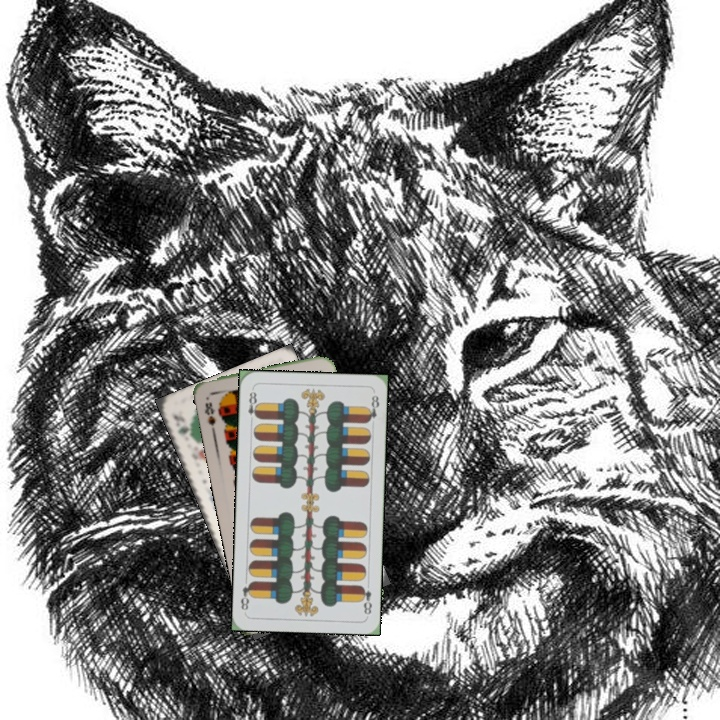E8: (244, 385, 261, 426), (356, 581, 375, 617)
GK: (170, 410, 196, 444)
S8: (201, 398, 218, 434)
